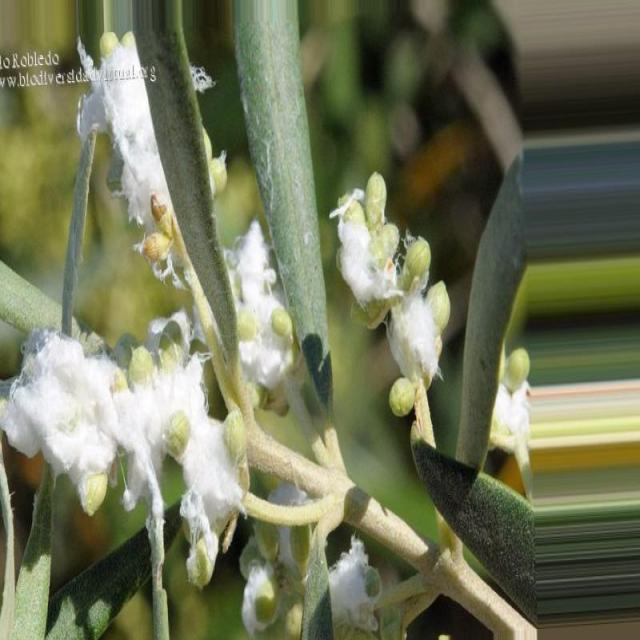Psyllid: (0, 330, 246, 585), (330, 172, 451, 419), (78, 31, 171, 235), (240, 522, 309, 639)
